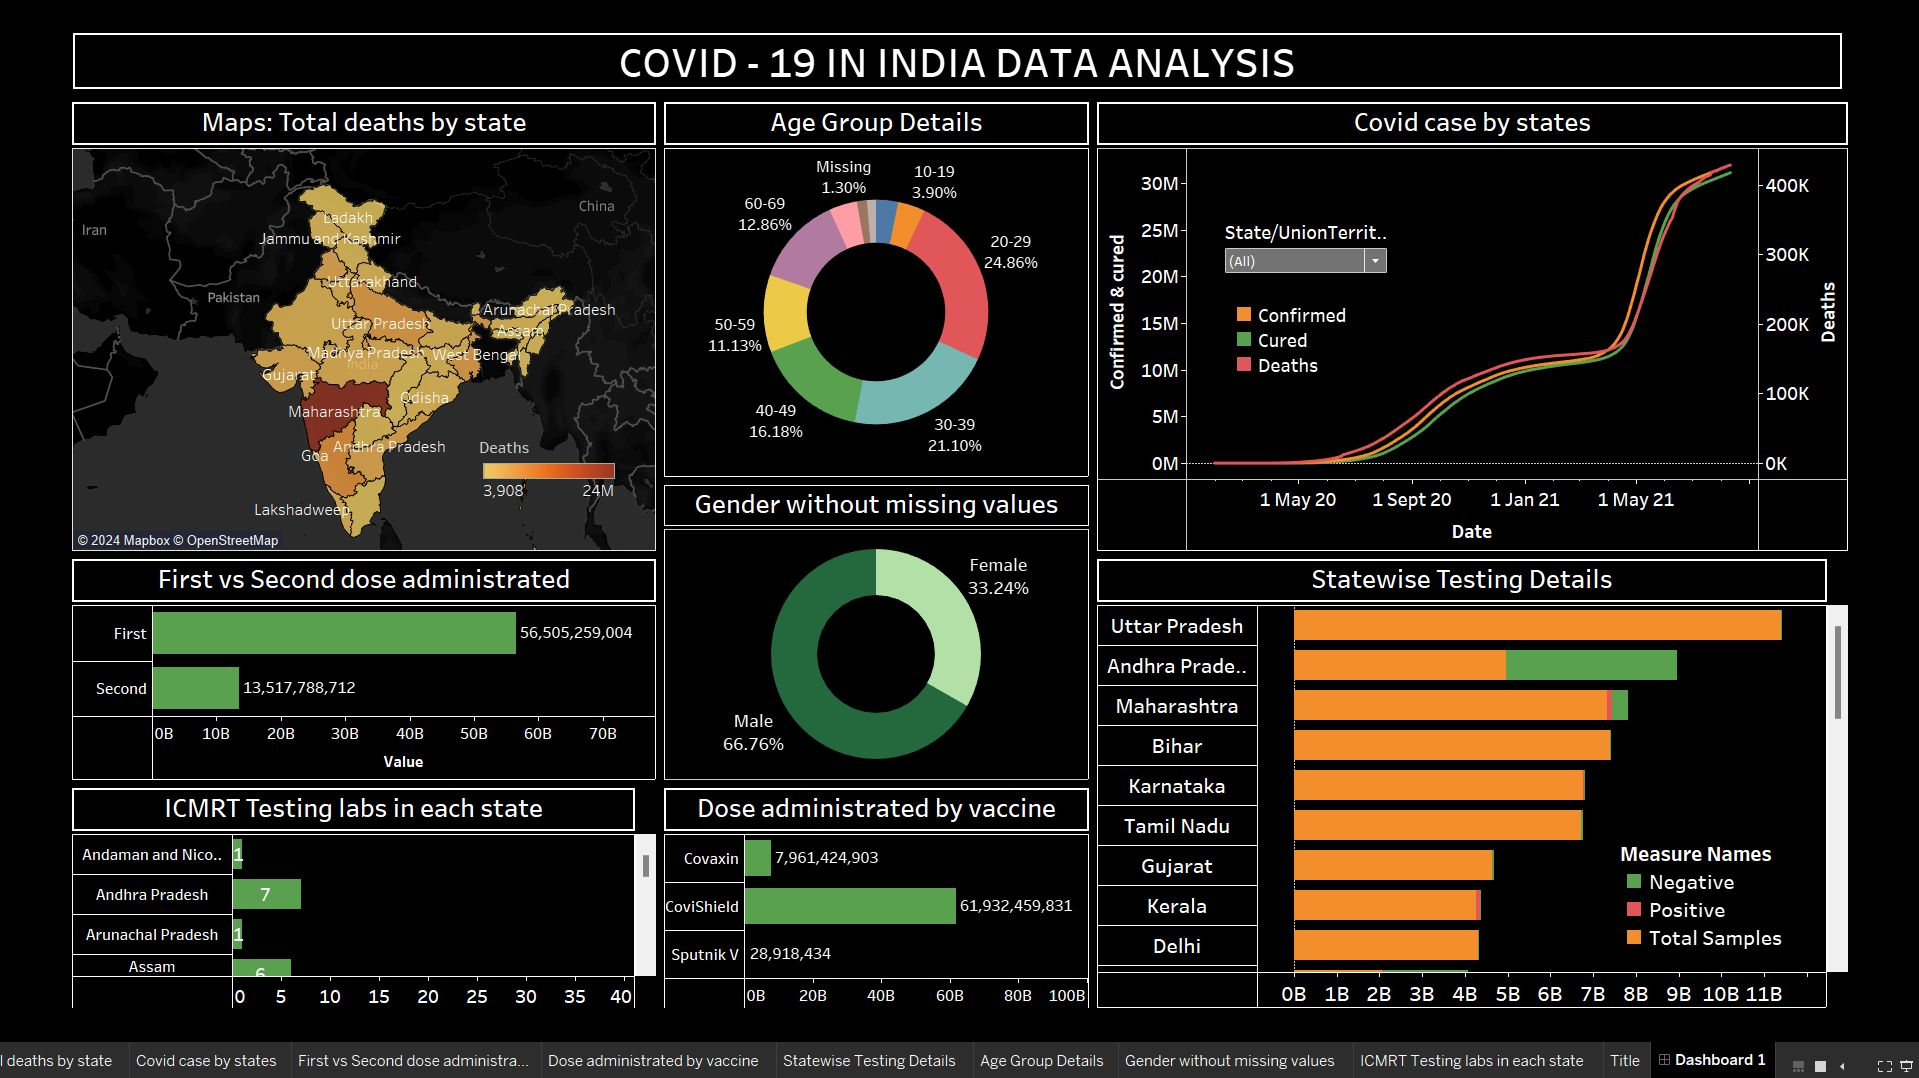

The page's visual inventory and layout, read from the dashboard file:
{"tool":"tableau","page":{"name":"Dashboard 1","canvas":[1800,1000],"ordinal":0},"visuals":[{"type":"worksheet","title":"Title","mark":"Automatic","box":[8,8,1784,70]},{"type":"worksheet","title":"Maps: Total deaths by state","mark":"Automatic","box":[8,78,592,457]},{"type":"worksheet","title":"Age Group Details","mark":"Pie","rows":["Calculation_1379508874302808065","Calculation_1379508874303258627"],"box":[600,78,433,383]},{"type":"worksheet","title":"Covid case by states","mark":"Automatic","rows":["Deaths"],"cols":["Date"],"box":[1033,78,759,457]},{"type":"filter","title":"Covid case by states","param":"[federated.0lj5zb119n8dt9193h1f90vdye61].[none:State/UnionTerritory:nk]","box":[1162,199,168,65]},{"type":"legend","title":"Covid case by states","param":"[federated.0lj5zb119n8dt9193h1f90vdye61].[:Measure Names]","box":[1172,282,140,75]},{"type":"legend","title":"Maps: Total deaths by state","param":"[federated.0lj5zb119n8dt9193h1f90vdye61].[sum:Deaths:qk]","box":[419,417,140,88]},{"type":"worksheet","title":"Gender without missing values","mark":"Pie","rows":["Calculation_1379508874307403781","Calculation_1379508874307416071"],"box":[600,461,433,302.5]},{"type":"worksheet","title":"First vs Second dose administrated","mark":"Automatic","box":[8,535,592,228.5]},{"type":"worksheet","title":"Statewise Testing Details","mark":"Bar","rows":["State"],"box":[1033,535,759,457]},{"type":"worksheet","title":"ICMRT Testing labs in each state","mark":"Automatic","rows":["state"],"cols":["lab"],"box":[8,763.5,592,228.5]},{"type":"worksheet","title":"Dose administrated by vaccine","mark":"Automatic","box":[600,763.5,433,228.5]},{"type":"legend","title":"Statewise Testing Details","param":"[federated.1e82xsj0bqw5311aw64dj1e5sj87].[:Measure Names]","box":[1560,819,167,112]}]}

Visuals, with their boxes on the page's 1800x1000 design canvas (x1, y1, x2, y2). These are canvas units, not pixel positions in the 1919x1078 screenshot, which may show the page scaled, cropped or inside an application window:
"Title" worksheet: box=[8, 8, 1792, 78]
"Maps: Total deaths by state" worksheet: box=[8, 78, 600, 535]
"Age Group Details" worksheet (Pie marks): box=[600, 78, 1033, 461]
"Covid case by states" worksheet: box=[1033, 78, 1792, 535]
"Covid case by states" filter: box=[1162, 199, 1330, 264]
"Covid case by states" legend: box=[1172, 282, 1312, 357]
"Maps: Total deaths by state" legend: box=[419, 417, 559, 505]
"Gender without missing values" worksheet (Pie marks): box=[600, 461, 1033, 764]
"First vs Second dose administrated" worksheet: box=[8, 535, 600, 764]
"Statewise Testing Details" worksheet (Bar marks): box=[1033, 535, 1792, 992]
"ICMRT Testing labs in each state" worksheet: box=[8, 764, 600, 992]
"Dose administrated by vaccine" worksheet: box=[600, 764, 1033, 992]
"Statewise Testing Details" legend: box=[1560, 819, 1727, 931]
